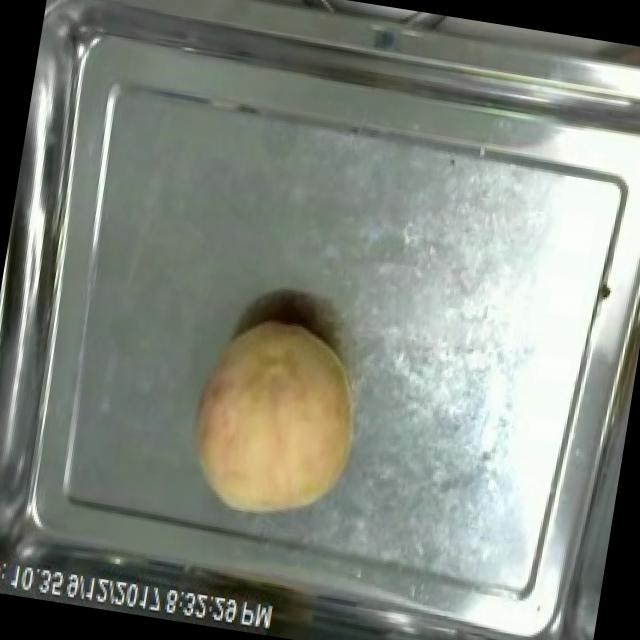Fruit: (172, 304, 383, 544)
